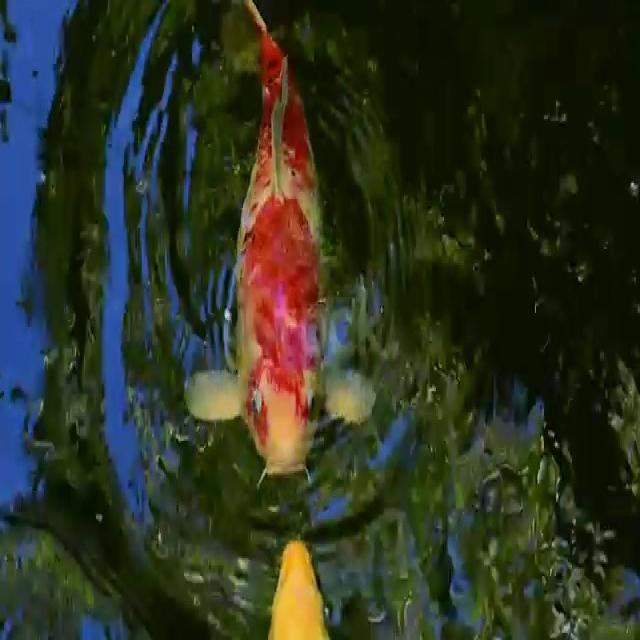fish: (181, 1, 376, 486), (265, 530, 334, 640)
